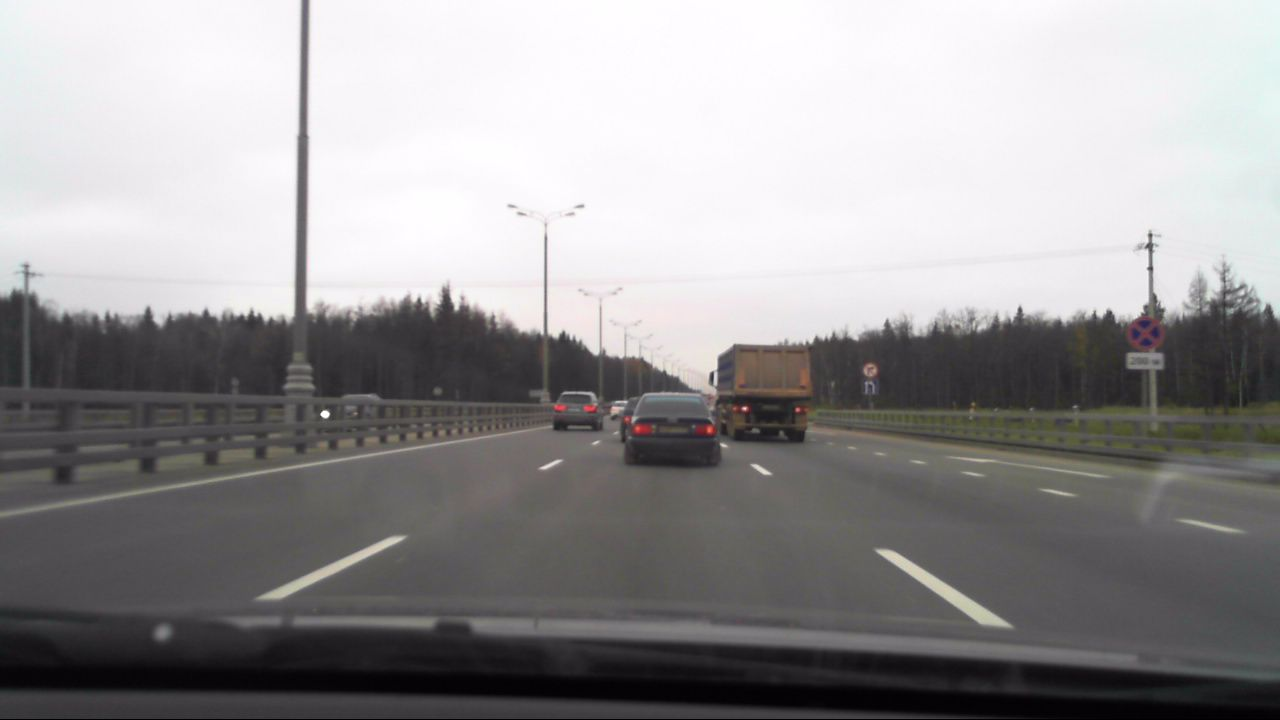No Parking: (1125, 316, 1165, 351)
